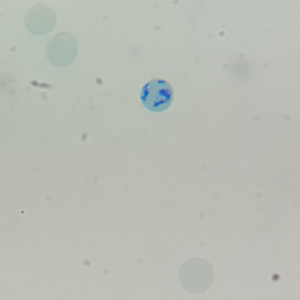aggregate reticulocyte: (138, 77, 175, 113)
erythrocyte: (176, 256, 215, 295), (44, 30, 80, 69), (23, 2, 57, 37)
